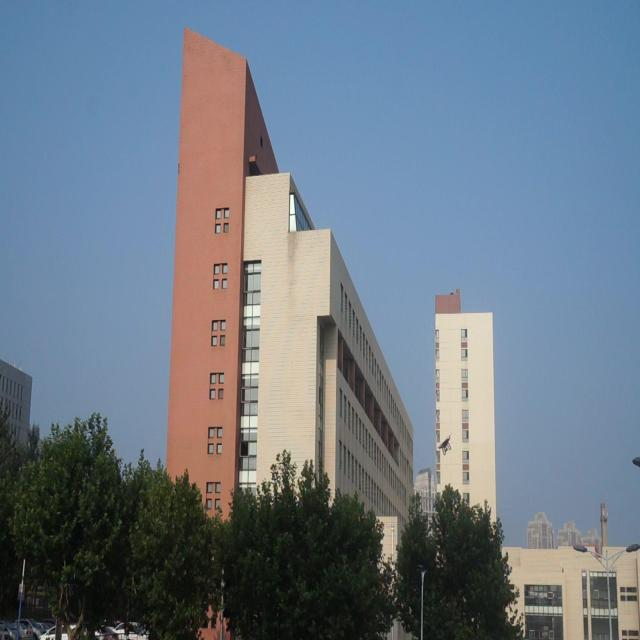drone: (436, 430, 454, 456)
